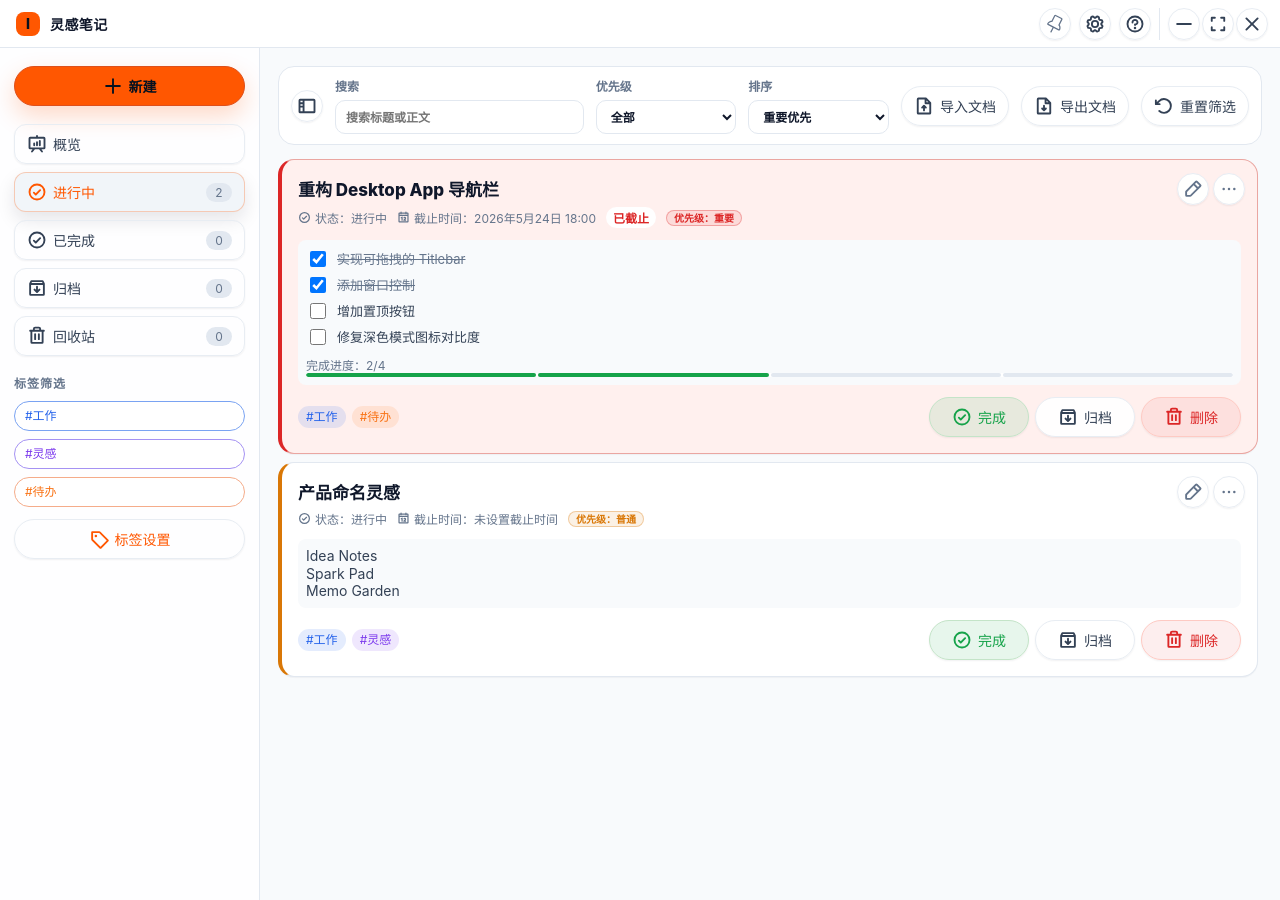
App settings backup › 导出失败时显示失败反馈
The width and height of the screenshot is (1280, 900).
What coordinates should you click on to do the following:
click the button named "设置"
I would click on:
 (1095, 24)
Its box is top-left (1079, 8), bottom-right (1111, 40).
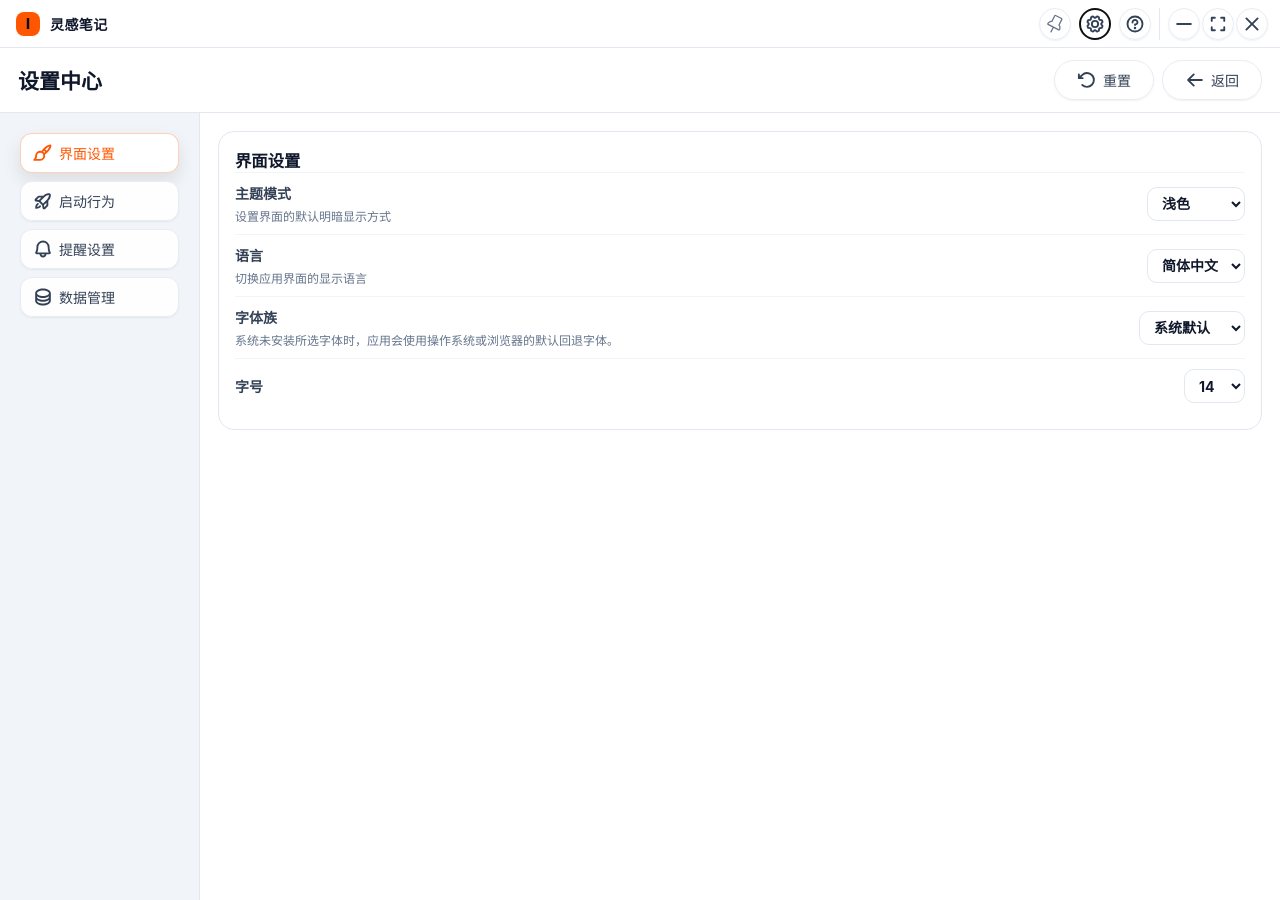
What coordinates should you click on to do the following:
click the tab "数据管理"
I would click on:
 (100, 297)
Its box is top-left (20, 277), bottom-right (179, 317).
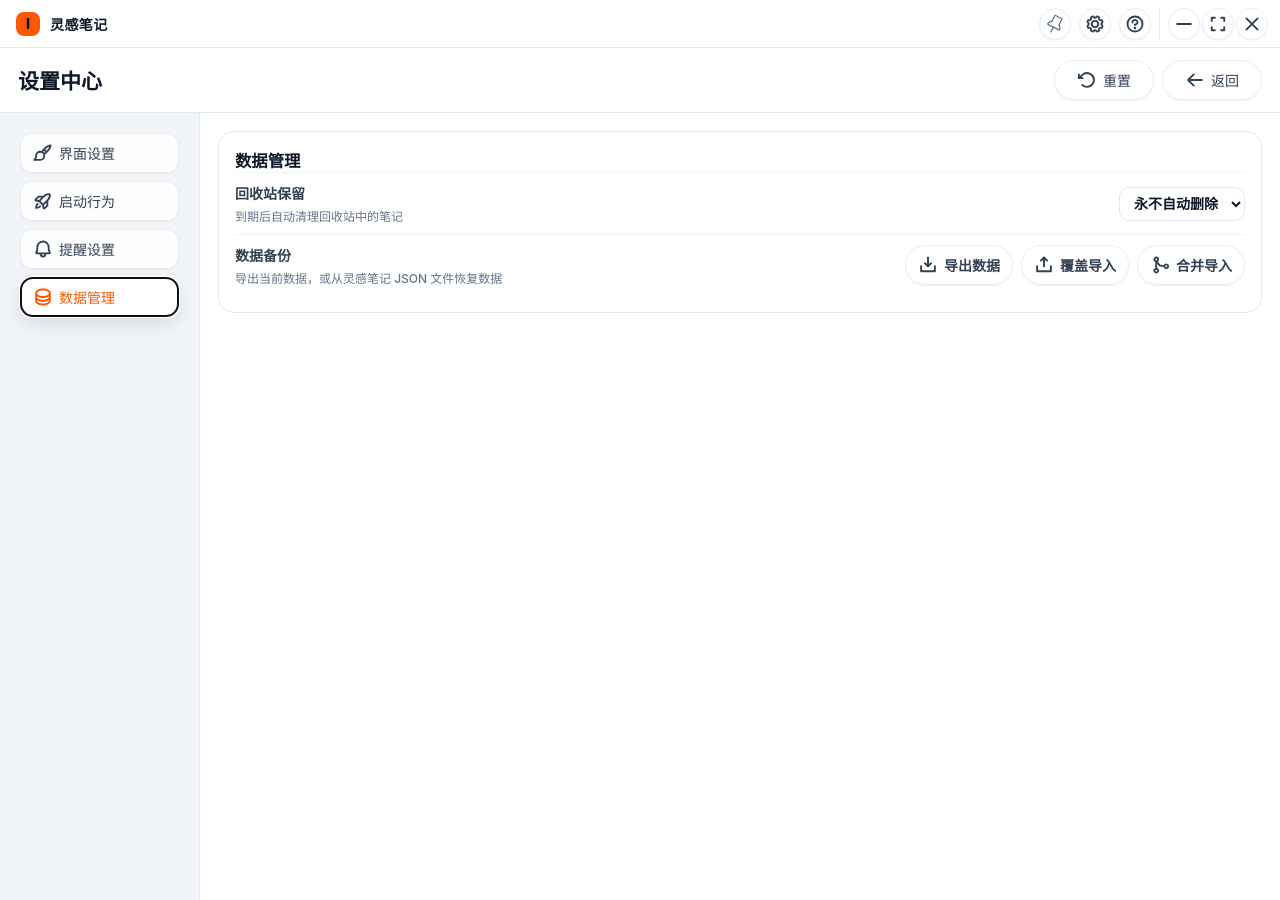
What coordinates should you click on to do the following:
click the button "导出数据"
I would click on:
 (959, 265)
Its box is top-left (905, 245), bottom-right (1013, 285).
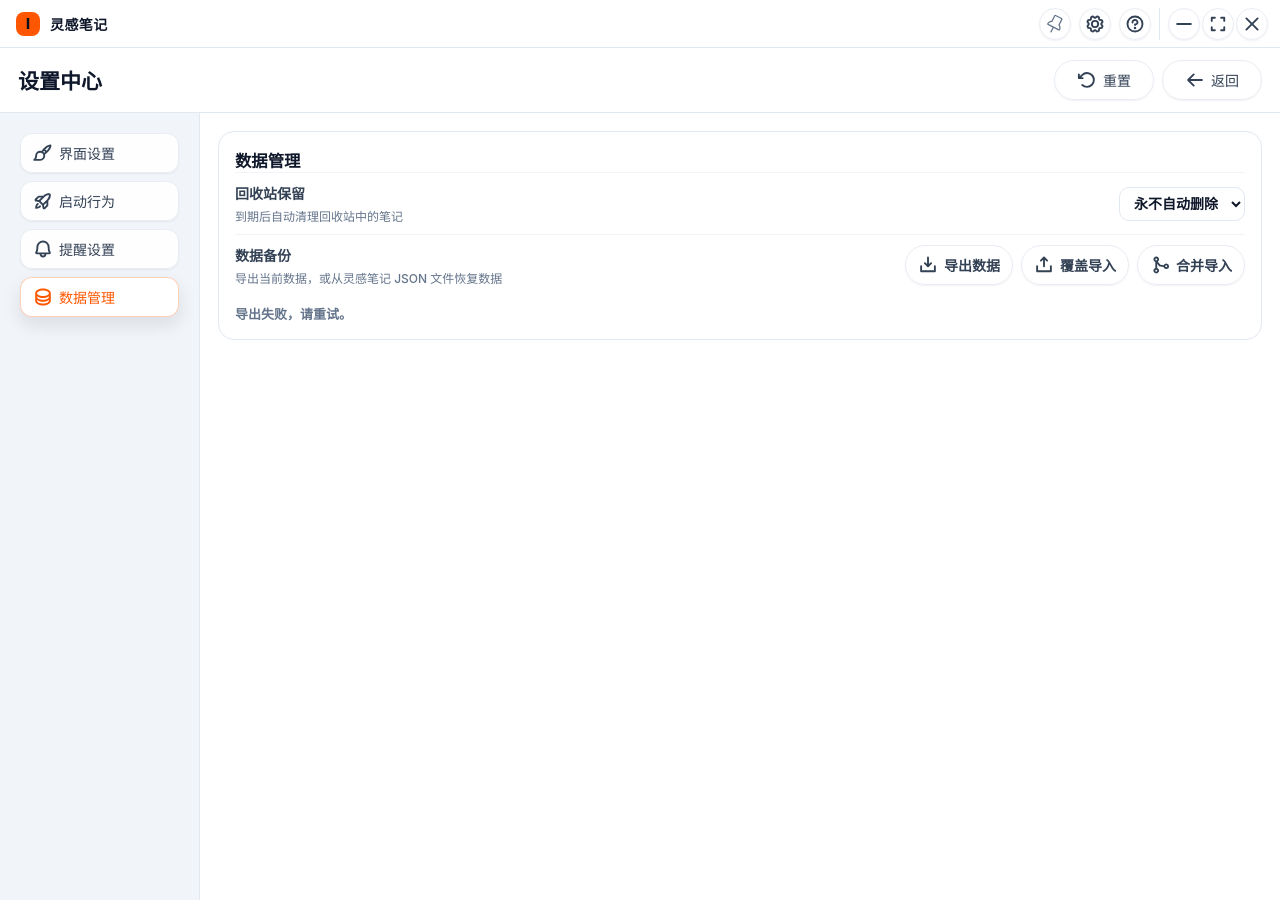
expect the message reads "导出失败，请重试。": met, box top-left (235, 306), bottom-right (352, 322)
